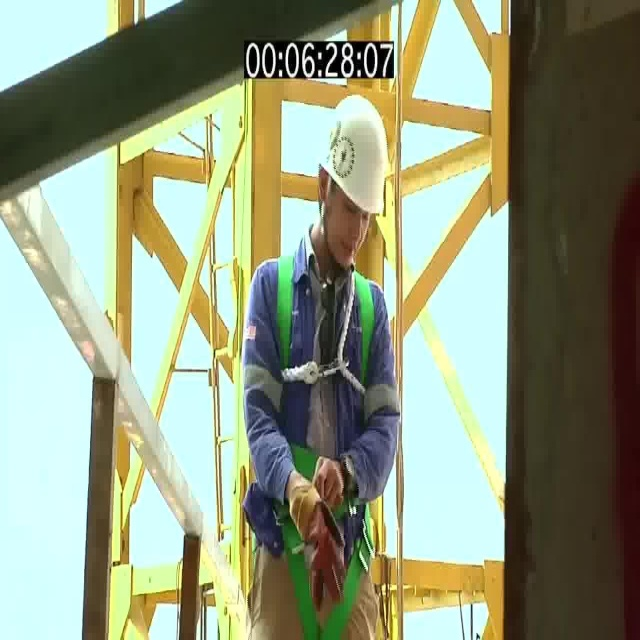Arnes_seguridad: (276, 247, 378, 632)
